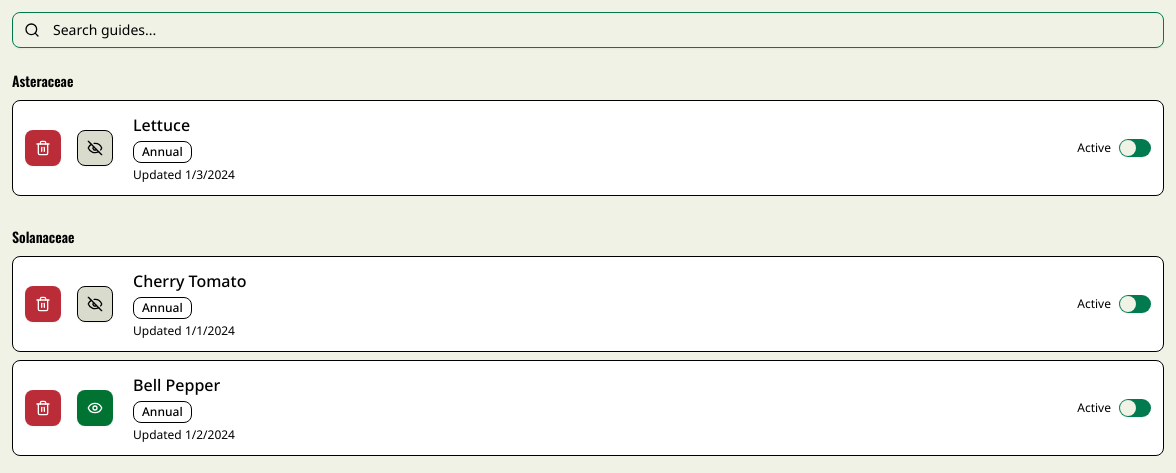
Test: GrowGuideListPresenter › Search Functionality › filters grow guides based on search term
Type "tomato" into the field with placeholder "Search guides..." at (588, 30), box 12,12 -> 1164,48
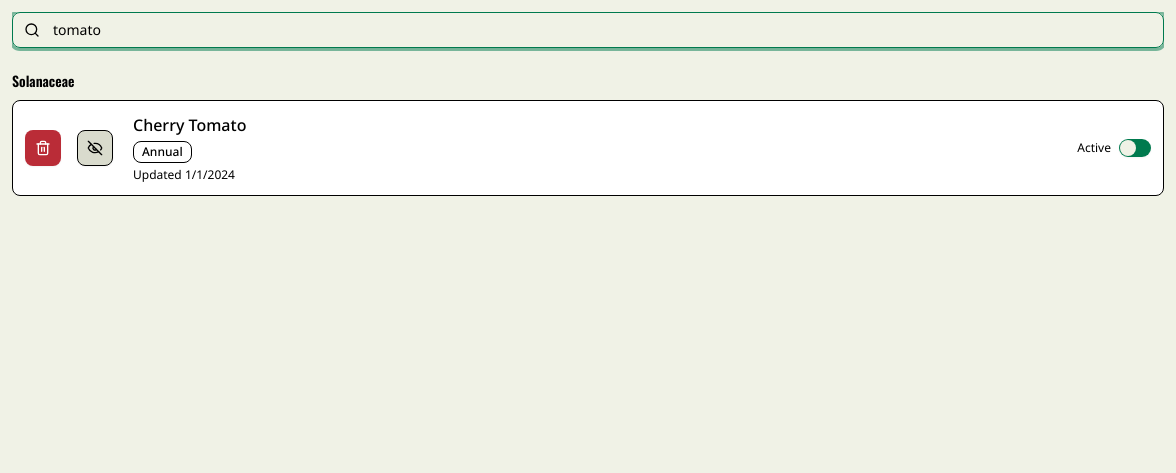
Expected: the text "Cherry Tomato" is shown, 133,115 -> 246,135
Result: the button "Bell Pepper" is gone
Result: the button "Lettuce" is gone
